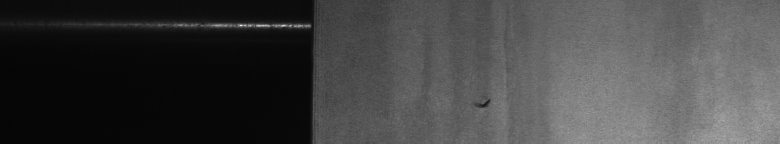fi: (474, 96, 496, 116)
